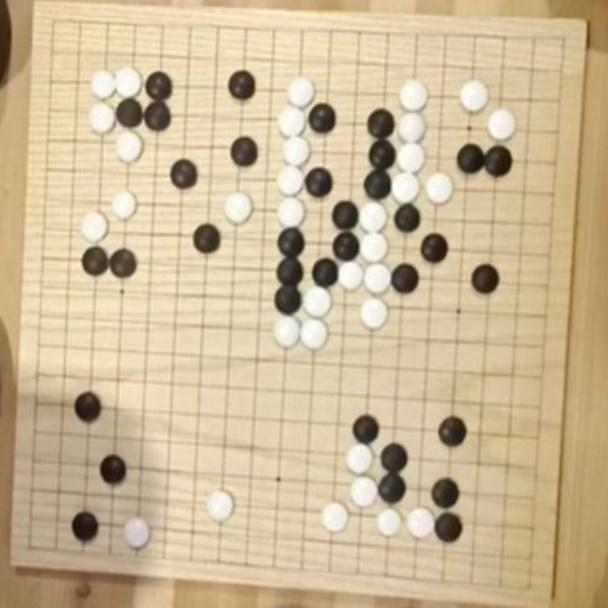corners: (512, 563, 540, 602), (39, 9, 69, 35), (23, 526, 45, 560), (553, 25, 576, 55)
